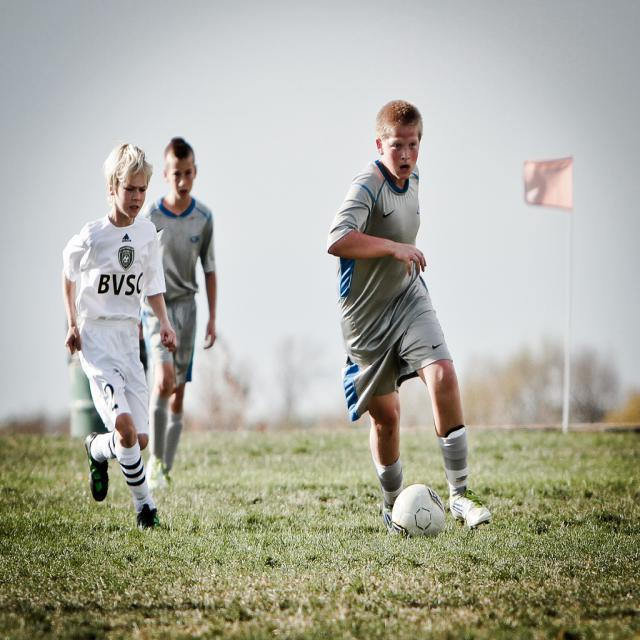ball: (392, 482, 449, 541)
